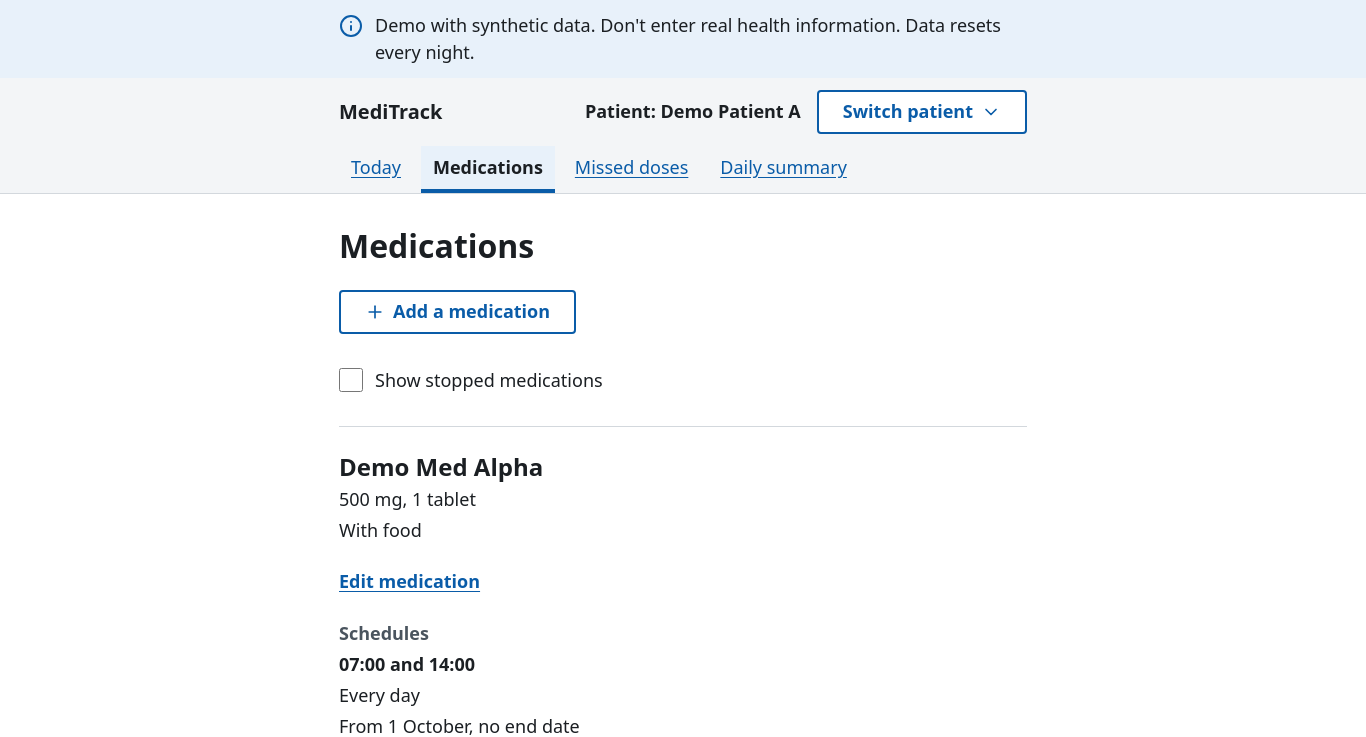
Medication form › adds a medication and confirms it in words that stay on screen
Click the button "Add a medication".
click(458, 312)  # box [339, 290, 576, 334]
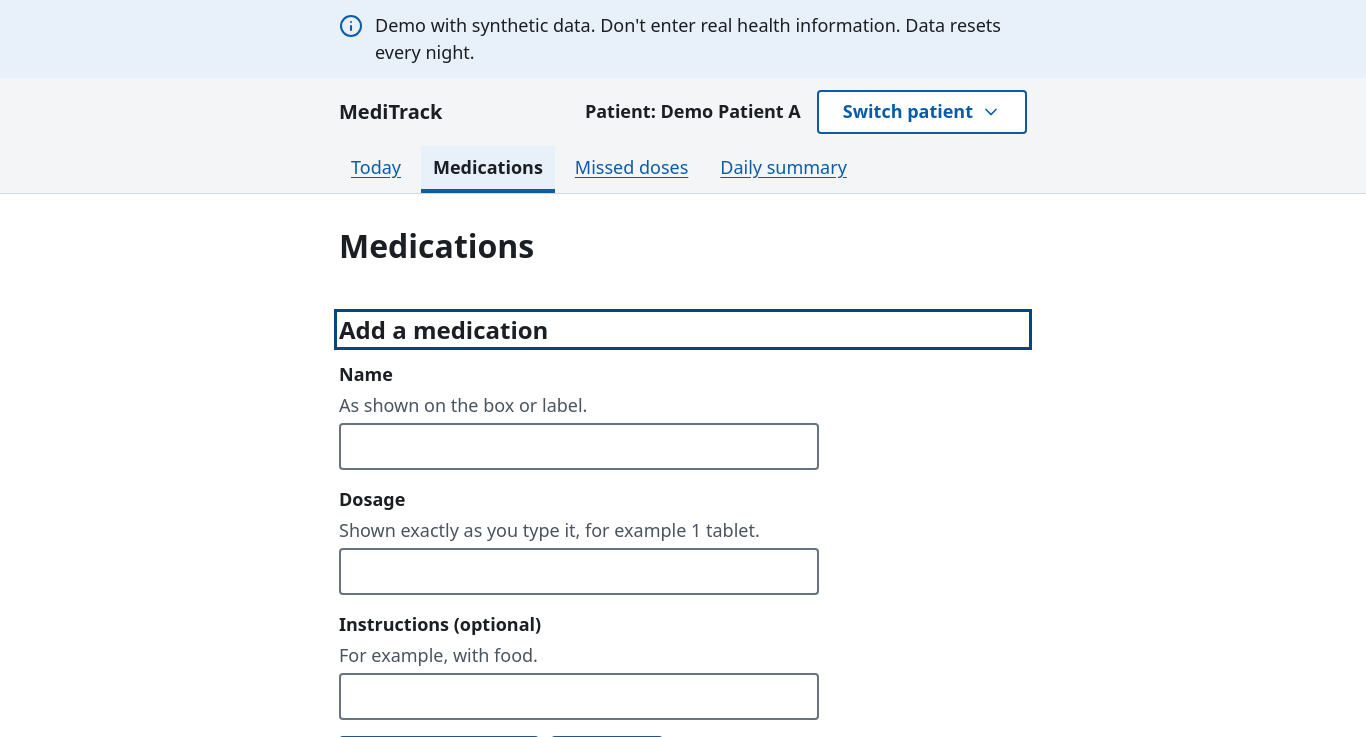
Type "Demo Med Zeta" into the field labelled "Name".
click(579, 447); type("Demo Med Zeta")  # box [339, 423, 819, 470]
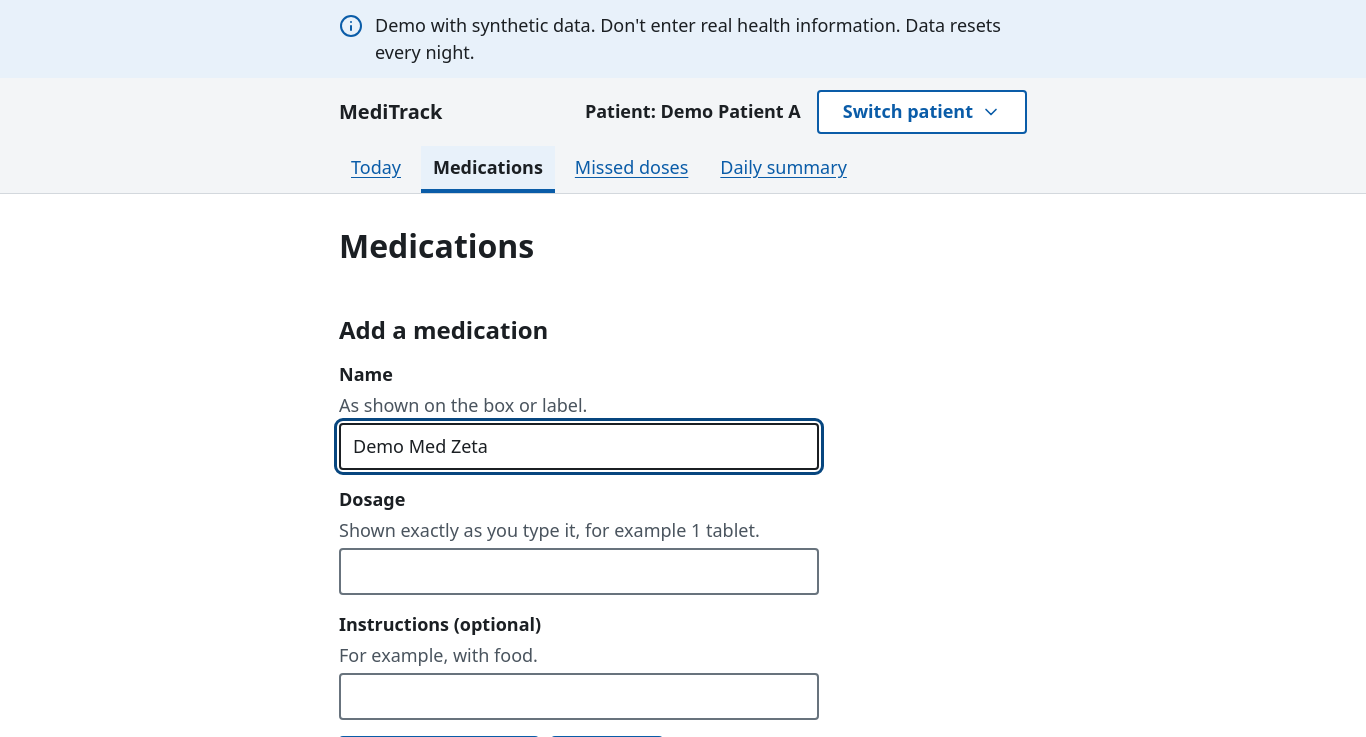
Type "2 tablets" into the field labelled "Dosage".
click(579, 572); type("2 tablets")  # box [339, 548, 819, 595]
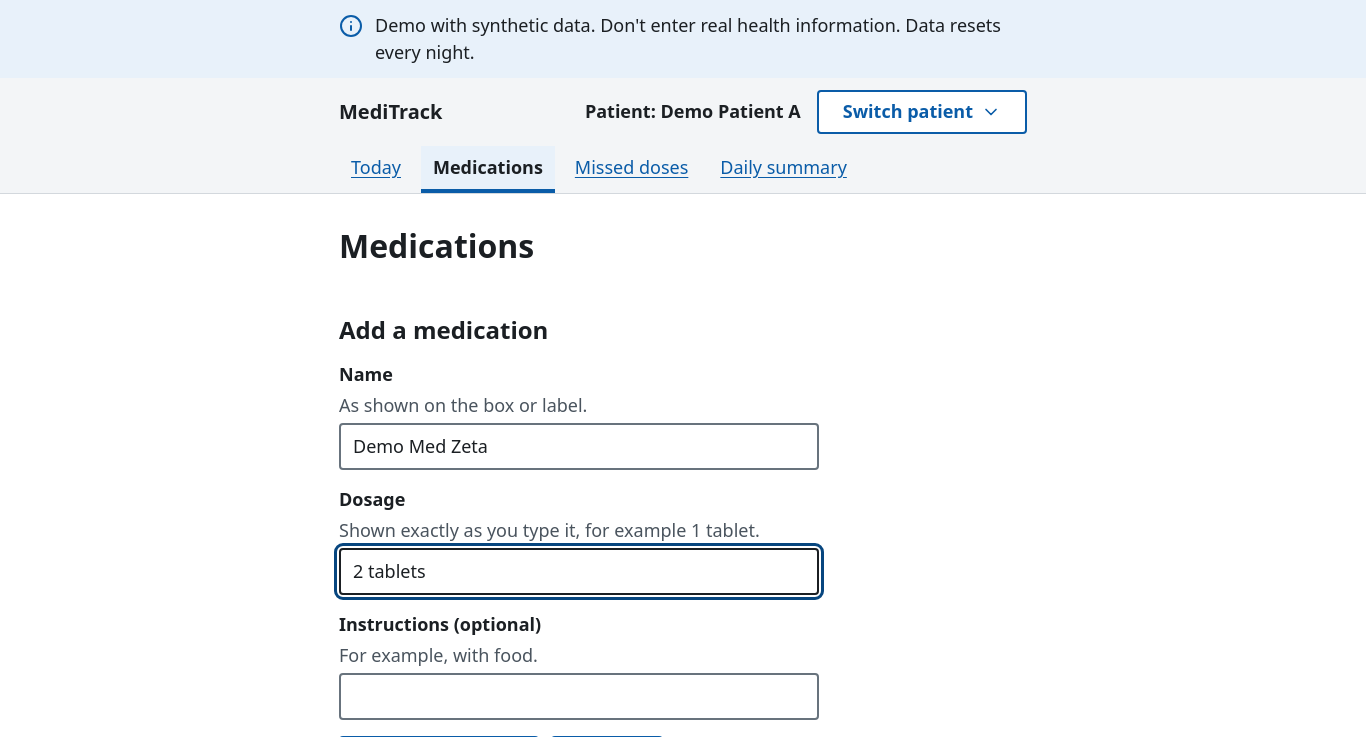
Type "At night" into the field labelled "Instructions (optional)".
click(579, 697); type("At night")  # box [339, 673, 819, 720]
(page scrolled)
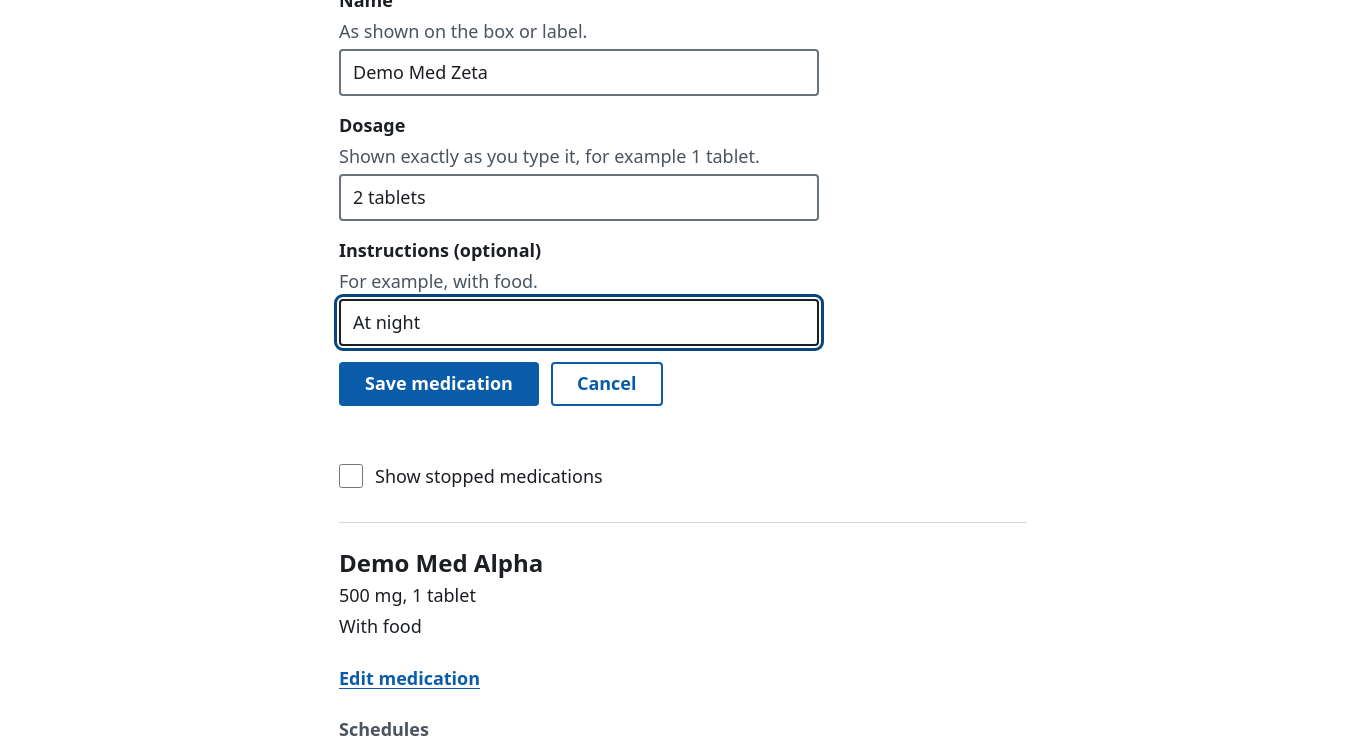
Click the button "Save medication".
click(439, 384)  # box [339, 362, 539, 406]
(page scrolled)
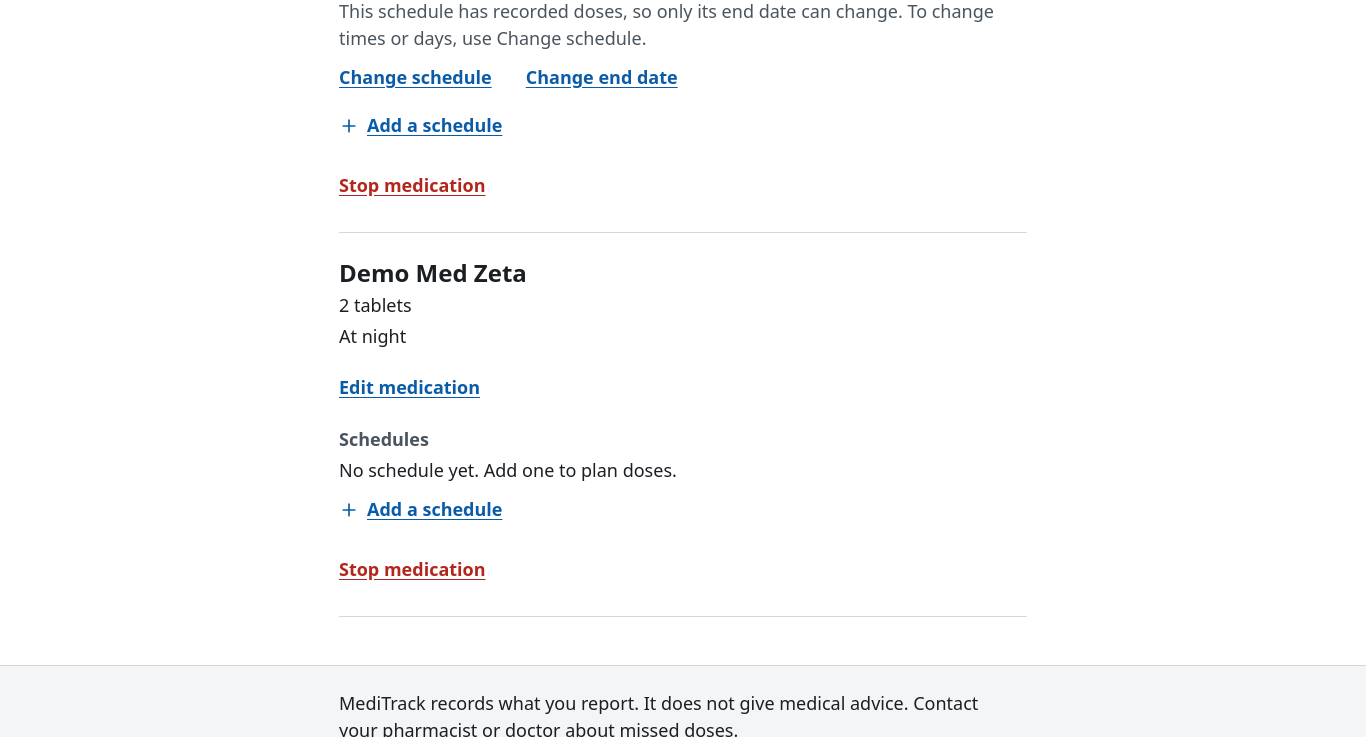
Expected: the text "2 tablets" is shown, [339, 293, 412, 317]
Expected: the text "No schedule yet. Add one to plan doses." is shown, [339, 458, 677, 482]
